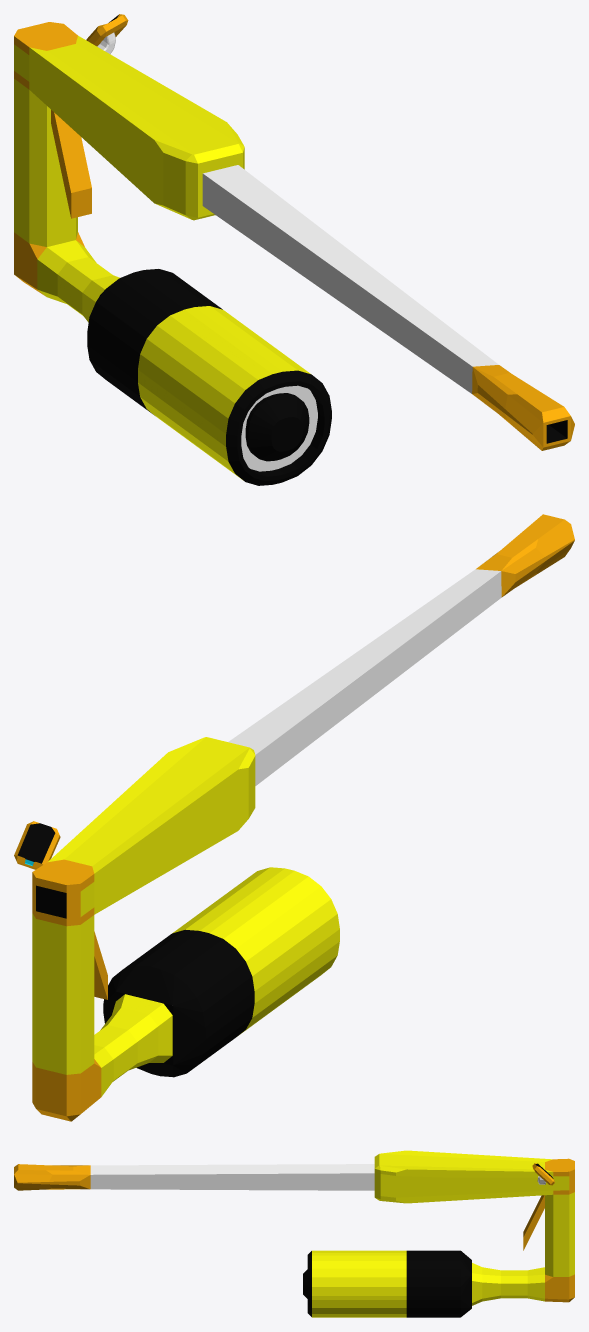
Rendered from not_floppy_blaster.glb.
3 views of the same model, one above another, from view 1: azimuth 30°, elevation 25°; view 2: azimuth 150°, elevation 25°; view 3: azimuth 270°, elevation 25° (orthographic). The views are drawn at different scales.
Parts seen in each view (by area): view 1: Cube; view 2: Cube; view 3: Cube.
Part boxes in pixels (bbox=[...]): Cube: bbox=[14, 14, 574, 485]; Cube: bbox=[14, 514, 574, 1121]; Cube: bbox=[14, 1150, 574, 1317].
Size of the model in its own units: 0.4782 by 1.22 by 3.84.
